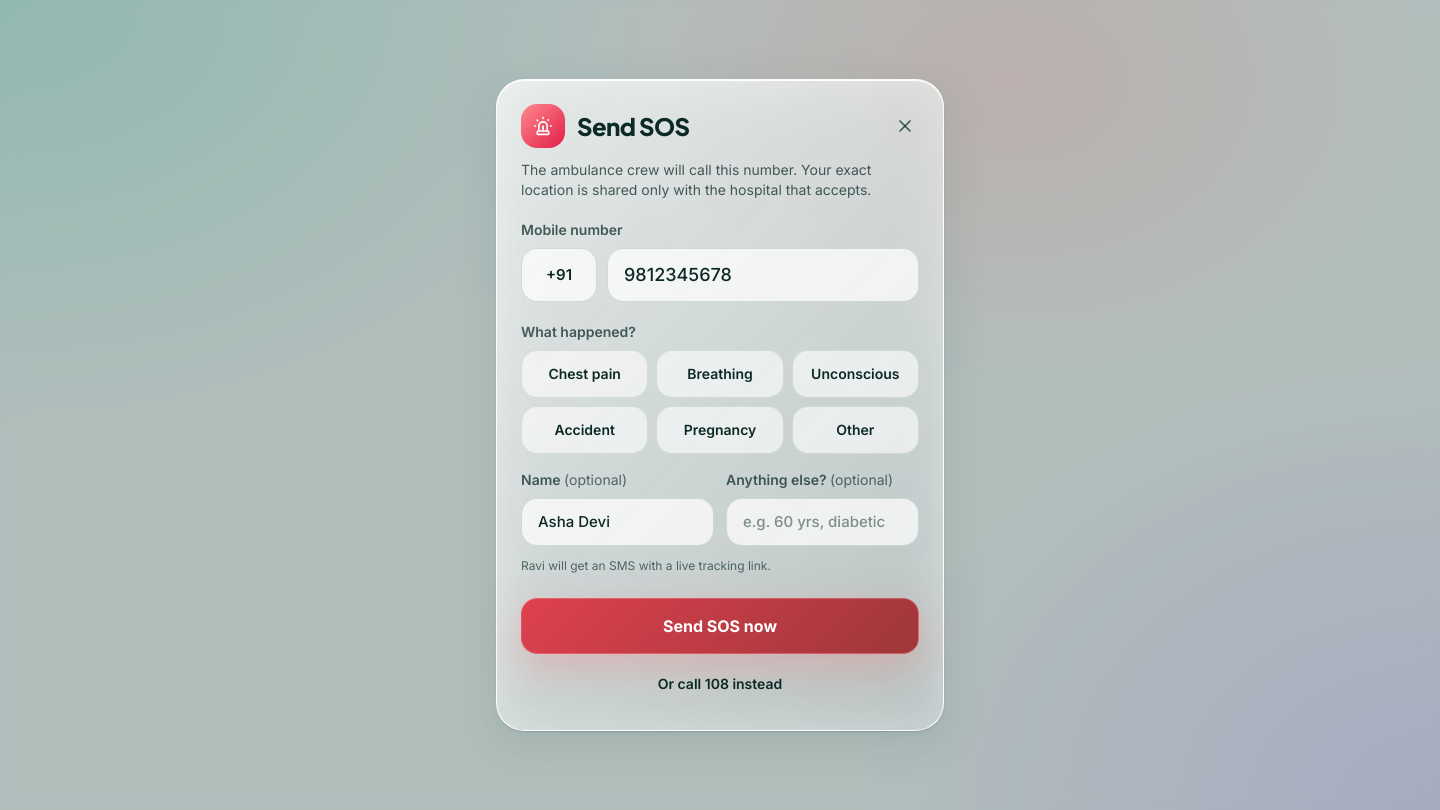
Test: SOS sheet quick buttons › shows the road-accident notice only for Accident
Step 1. Click the button "Chest pain" → (585, 374), box [521,350,648,398]
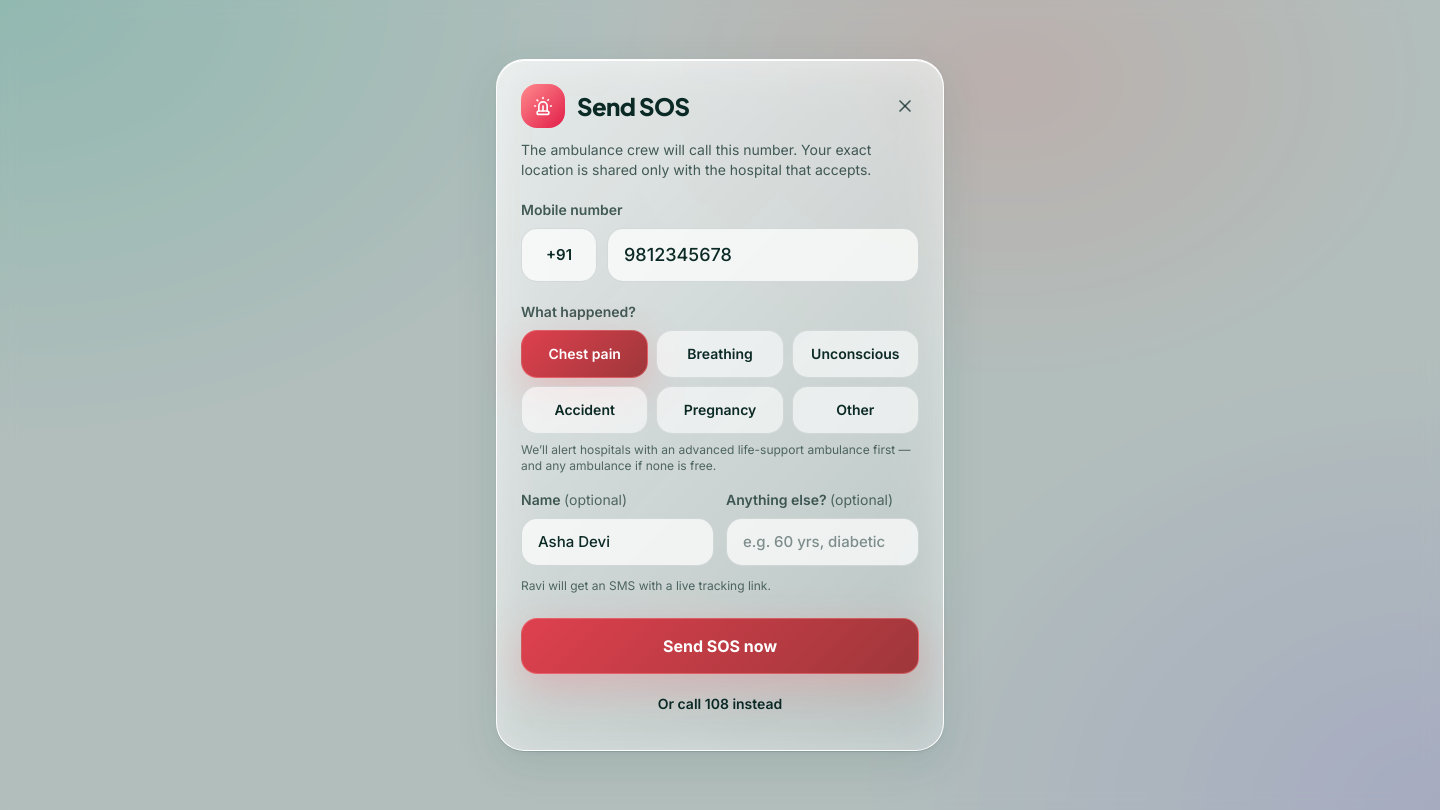
Step 2. Click the button "Accident" → (585, 410), box [521,386,648,434]
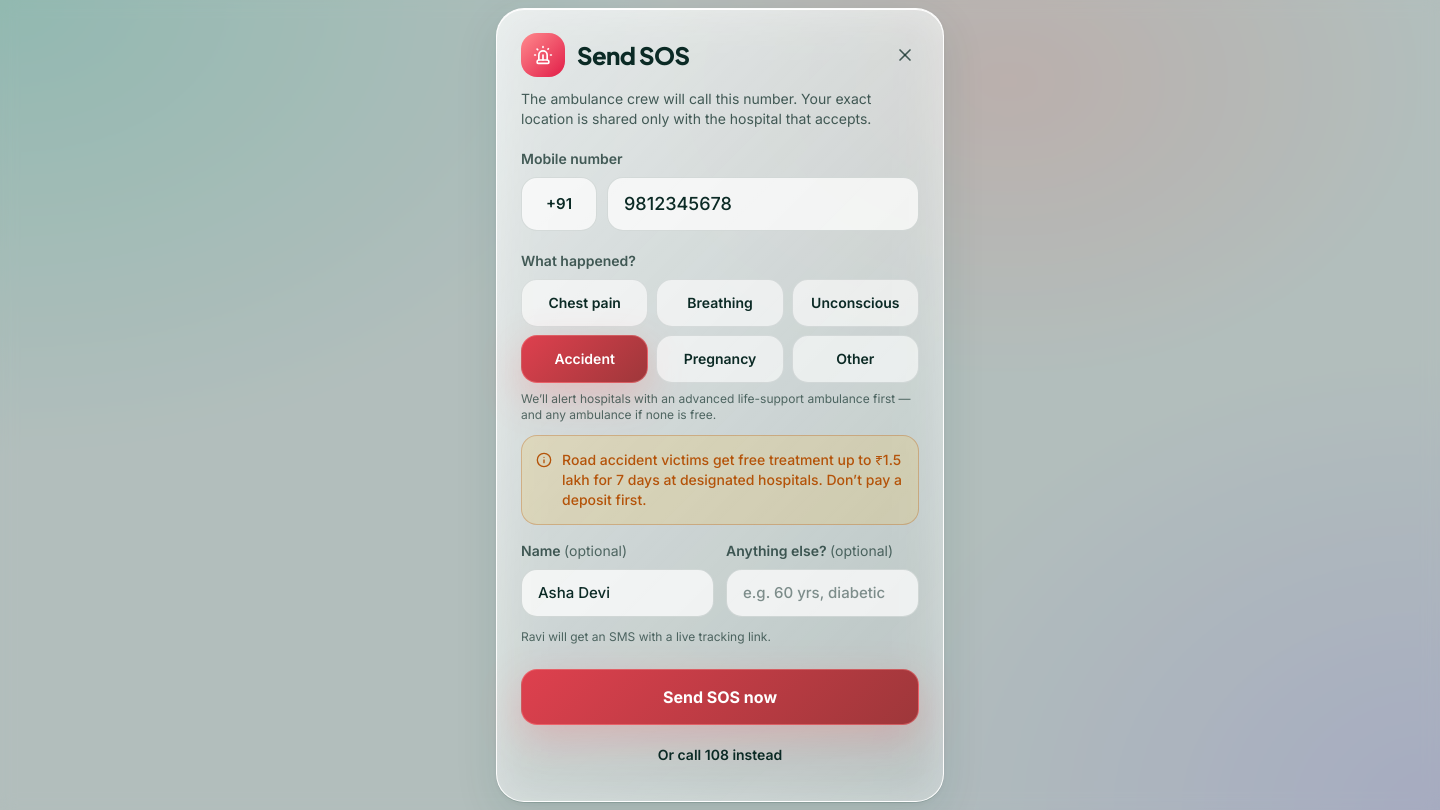
Check: the text "Road accident victims get free treatment up to ₹1.5 lakh for 7 days at designated hospitals. Don’t pay a deposit first." is shown, box [562,451,902,508]
Check: the text "₹1.5 lakh for 7 days" is shown, box [562,451,902,508]
